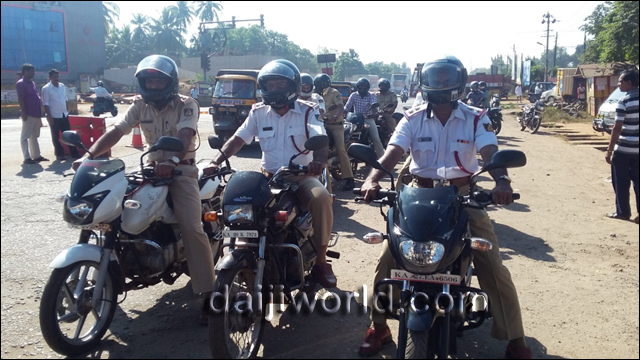helmet: (133, 53, 182, 107), (255, 57, 298, 109), (422, 53, 465, 105)
